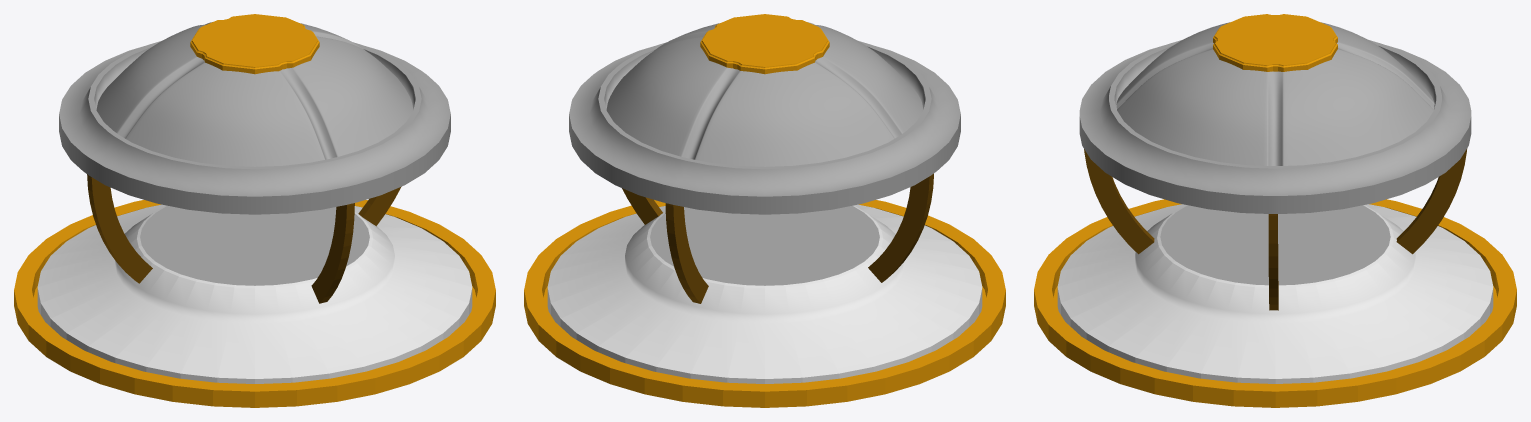
The model's file is ornateTable_5.fbx.
3 views of the same model, side by side, from view 1: azimuth 30°, elevation 25°; view 2: azimuth 150°, elevation 25°; view 3: azimuth 270°, elevation 25° (orthographic).
Visible parts, largest first — view 1: polySurface18, polySurface10, pCylinder5, polySurface19, polySurface16, pCube5, pCube4, pCube6; view 2: polySurface18, polySurface10, pCylinder5, polySurface19, polySurface16, pCube5, pCube7, pCube6; view 3: polySurface18, polySurface10, pCylinder5, polySurface19, polySurface16, pCube7, pCube4, pCube6.
Part boxes in pixels (x1,y1,x2,y2): polySurface18: [37, 204, 472, 383]; polySurface10: [96, 22, 413, 166]; pCylinder5: [59, 41, 450, 214]; polySurface19: [14, 200, 495, 407]; polySurface16: [190, 14, 319, 74]; pCube5: [87, 174, 152, 283]; pCube4: [311, 203, 354, 303]; pCube6: [358, 186, 401, 226]; polySurface18: [547, 204, 982, 383]; polySurface10: [606, 22, 923, 166]; pCylinder5: [569, 41, 960, 214]; polySurface19: [524, 200, 1005, 407]; polySurface16: [700, 14, 829, 74]; pCube5: [868, 173, 933, 282]; pCube7: [665, 203, 708, 303]; pCube6: [622, 188, 662, 224]; polySurface18: [1057, 204, 1493, 383]; polySurface10: [1116, 22, 1434, 165]; pCylinder5: [1079, 39, 1471, 213]; polySurface19: [1034, 199, 1516, 407]; polySurface16: [1213, 14, 1337, 71]; pCube7: [1396, 148, 1467, 254]; pCube4: [1084, 149, 1154, 254]; pCube6: [1268, 214, 1278, 310].
Size of the model in its own units: 4.88 by 2.97 by 4.88.
